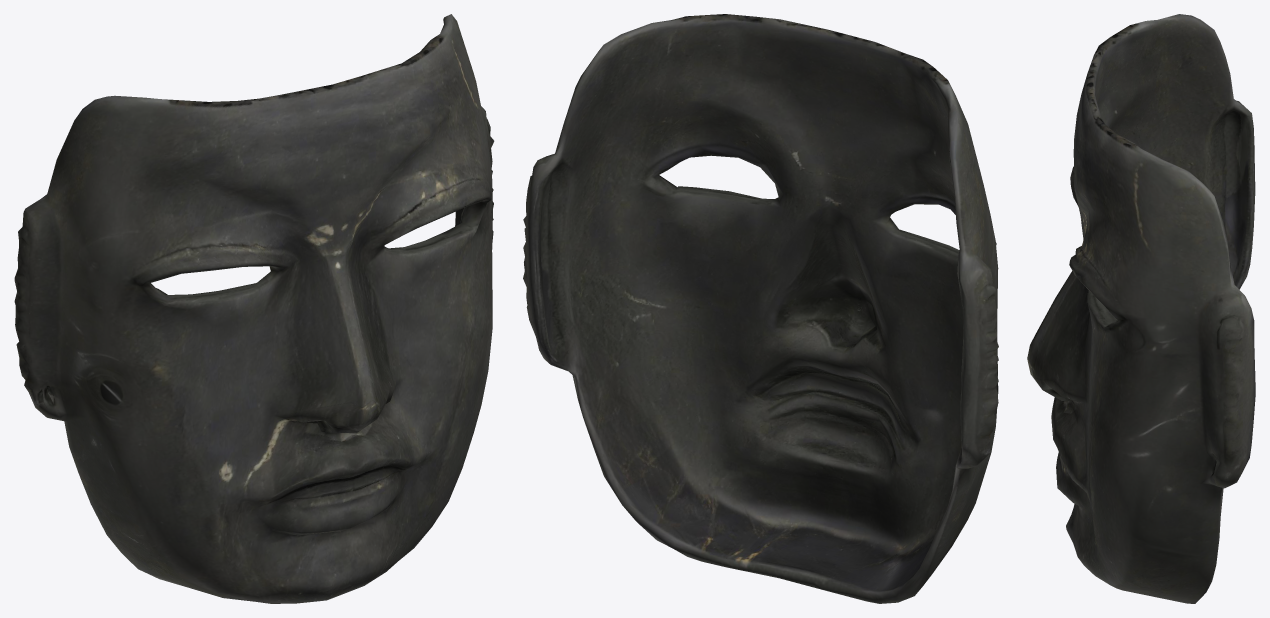
Rendered from Mascara_de_jade.glb.
3 views of the same model, side by side, from view 1: azimuth 30°, elevation 25°; view 2: azimuth 150°, elevation 25°; view 3: azimuth 270°, elevation 25° (orthographic). The views are drawn at different scales.
Parts seen in each view (by area): view 1: Mesh1.0; view 2: Mesh1.0; view 3: Mesh1.0.
Boxes of the visible parts, x1,y1,x2,y2 form: Mesh1.0: [14, 14, 494, 603]; Mesh1.0: [523, 14, 998, 603]; Mesh1.0: [1027, 14, 1255, 603].
Bounding box in the file's own units: 0.4819 × 0.5 × 0.2161.
1 material, 1 textured.
